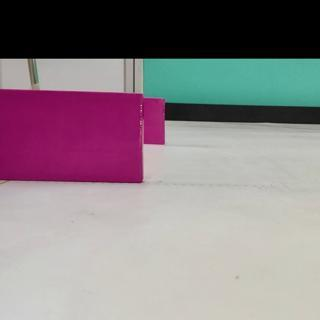xparking: (3, 95, 141, 182), (145, 99, 163, 140)
